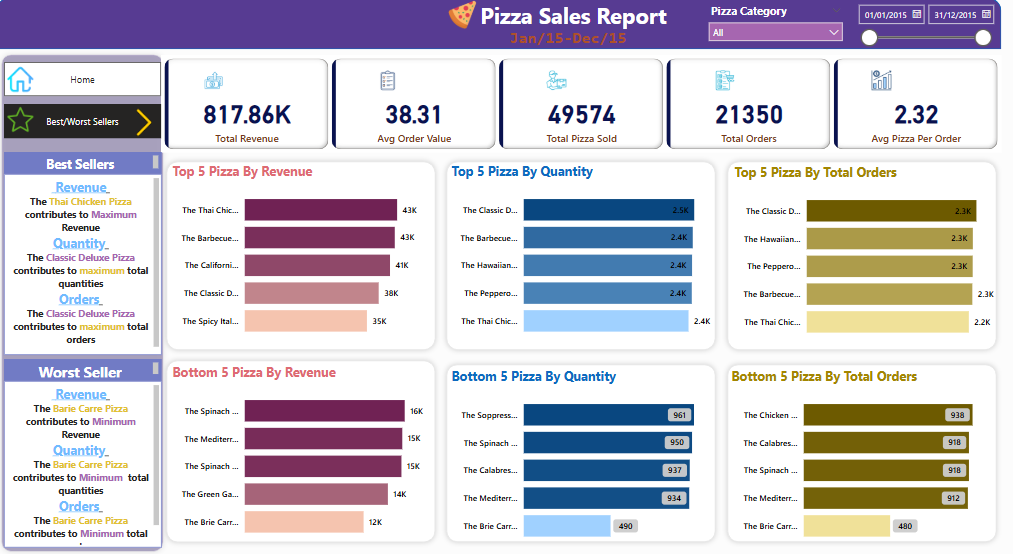

This screenshot's page, from the dashboard's own definition file:
{"tool":"powerbi","page":{"name":"Best/Worst Sellers","canvas":[1500,820],"ordinal":1},"visuals":[{"type":"shape","box":[0,75.8,253.2,743.5],"z":0},{"type":"cardVisual","fields":{"Data":["pizza_sales.Total Revenue","pizza_sales.Avg Order Value","pizza_sales.Total Pizza Sold","pizza_sales.Total Orders","pizza_sales.Avg Pizza Per Order"]},"box":[241.5,84.6,1230.8,143.1],"z":1000},{"type":"shape","box":[0,1.5,1472.3,75.4],"z":2000},{"type":"textbox","box":[472.6,0,745.2,75.8],"z":3000},{"type":"textbox","box":[746.8,40.3,287.1,43.5],"z":4000},{"type":"image","box":[643.5,0,79,51.6],"z":5000},{"type":"shape","box":[241.9,232.3,409.7,291.9],"z":6000},{"type":"textbox","box":[11.3,227.4,230.6,32.3],"z":7000},{"type":"textbox","box":[11.3,259.7,230.6,264.5],"z":8000},{"type":"textbox","box":[11.3,562.9,230.6,243.5],"z":9000},{"type":"textbox","box":[11.3,530.6,230.6,32.3],"z":10000},{"type":"slicer","fields":{"Values":["pizza_sales.pizza_category"]},"box":[1033.9,4.8,216.1,69.4],"z":11000},{"type":"slicer","fields":{"Values":["pizza_sales.order_date"]},"box":[1250,1.6,216.1,74.2],"z":12000},{"type":"shape","box":[651.6,232.3,409.7,291.9],"z":13000},{"type":"shape","box":[1062.9,232.3,409.7,291.9],"z":14000},{"type":"shape","box":[241.9,524.2,409.7,282.3],"z":15000},{"type":"shape","box":[651.6,530.6,409.7,275.8],"z":16000},{"type":"shape","box":[1062.9,530.6,409.7,275.8],"z":17000},{"type":"barChart","title":" Top 5 Pizza By Revenue ","fields":{"Category":["pizza_sales.pizza_name"],"Y":["pizza_sales.Total Revenue"]},"box":[253.2,241.9,390.3,271],"z":18000},{"type":"barChart","title":"Bottom 5 Pizza By Revenue ","fields":{"Category":["pizza_sales.pizza_name"],"Y":["pizza_sales.Total Revenue"]},"box":[253.2,535.5,390.3,271],"z":19000},{"type":"barChart","title":" Top 5 Pizza By Quantity","fields":{"Category":["pizza_sales.pizza_name"],"Y":["pizza_sales.Total Pizza Sold"]},"box":[661.3,241.9,390.3,271],"z":20000},{"type":"barChart","title":"Bottom 5 Pizza By Quantity","fields":{"Category":["pizza_sales.pizza_name"],"Y":["pizza_sales.Total Pizza Sold"]},"box":[661.3,541.9,390.3,271],"z":21000},{"type":"barChart","title":" Top 5 Pizza By Total Orders","fields":{"Category":["pizza_sales.pizza_name"],"Y":["pizza_sales.Total Orders"]},"box":[1075.8,243.5,390.3,271],"z":22000},{"type":"barChart","title":"Bottom 5 Pizza By Total Orders","fields":{"Category":["pizza_sales.pizza_name"],"Y":["pizza_sales.Total Orders"]},"box":[1072.6,541.9,390.3,271],"z":23000},{"type":"pageNavigator","box":[11.3,156.5,230.6,50],"z":24000},{"type":"pageNavigator","box":[11.3,95.2,230.6,50],"z":25000},{"type":"image","box":[11.3,96.8,48.4,48.4],"z":26000},{"type":"image","box":[191.9,156.5,50,53.2],"z":27000},{"type":"image","box":[11.3,151.6,48.4,54.8],"z":28000}]}

Visuals, with their boxes in screenshot pixels (x1, y1, x2, y2), scaled from the page's 1500x820 canvas onto the 1013x554 screenshot:
shape: Rect(0, 51, 171, 553)
cardVisual - pizza_sales.Total Revenue x pizza_sales.Avg Order Value: Rect(163, 57, 994, 154)
shape: Rect(0, 1, 994, 52)
textbox: Rect(319, 0, 822, 51)
textbox: Rect(504, 27, 698, 57)
image: Rect(435, 0, 488, 35)
shape: Rect(163, 157, 440, 354)
textbox: Rect(8, 154, 163, 175)
textbox: Rect(8, 175, 163, 354)
textbox: Rect(8, 380, 163, 545)
textbox: Rect(8, 358, 163, 380)
slicer - pizza_sales.pizza_category: Rect(698, 3, 844, 50)
slicer - pizza_sales.order_date: Rect(844, 1, 990, 51)
shape: Rect(440, 157, 717, 354)
shape: Rect(718, 157, 994, 354)
shape: Rect(163, 354, 440, 545)
shape: Rect(440, 358, 717, 545)
shape: Rect(718, 358, 994, 545)
" Top 5 Pizza By Revenue " barChart: Rect(171, 163, 435, 347)
"Bottom 5 Pizza By Revenue " barChart: Rect(171, 362, 435, 545)
" Top 5 Pizza By Quantity" barChart: Rect(447, 163, 710, 347)
"Bottom 5 Pizza By Quantity" barChart: Rect(447, 366, 710, 549)
" Top 5 Pizza By Total Orders" barChart: Rect(727, 165, 990, 348)
"Bottom 5 Pizza By Total Orders" barChart: Rect(724, 366, 988, 549)
pageNavigator: Rect(8, 106, 163, 140)
pageNavigator: Rect(8, 64, 163, 98)
image: Rect(8, 65, 40, 98)
image: Rect(130, 106, 163, 142)
image: Rect(8, 102, 40, 139)
